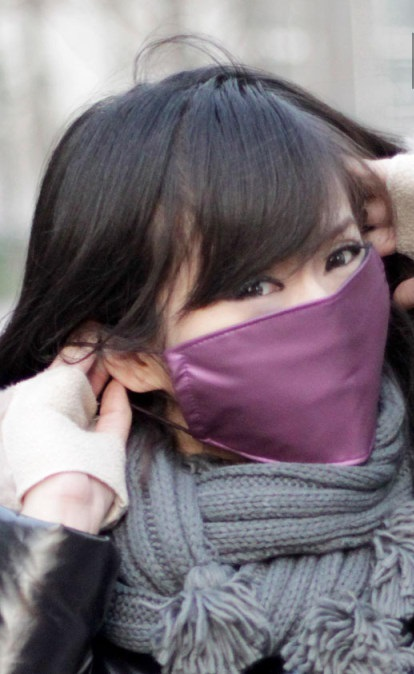face_mask: (191, 139, 382, 481)
